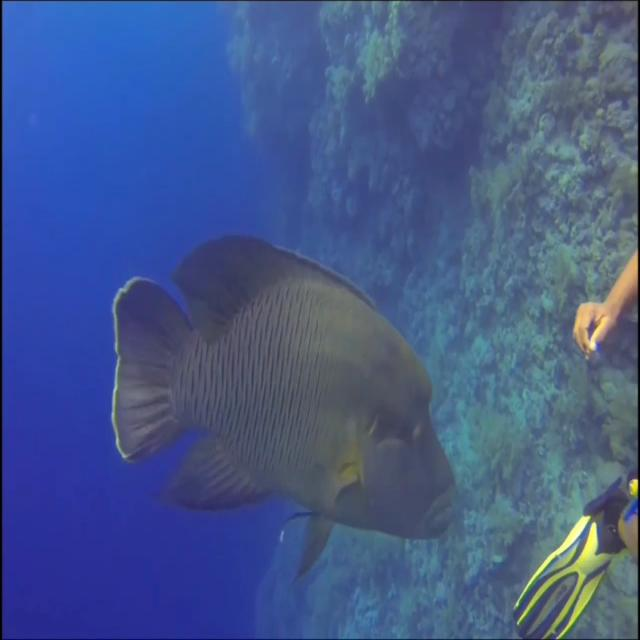Napoleon -Endangered-: (112, 235, 455, 580)
